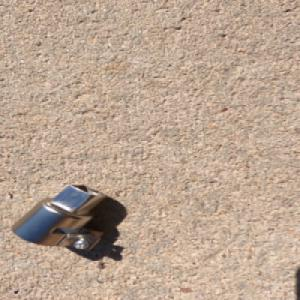MetalPart: (8, 183, 110, 251)
